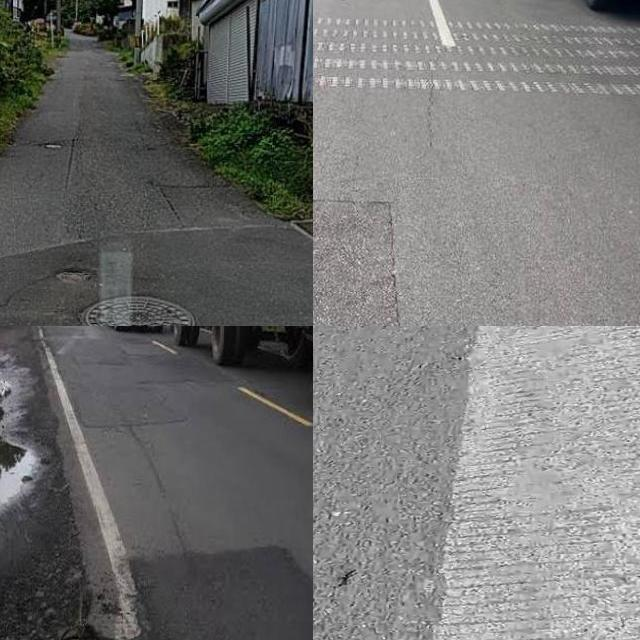Sambungan: (427, 326, 640, 640), (0, 220, 313, 326), (131, 543, 313, 640)
